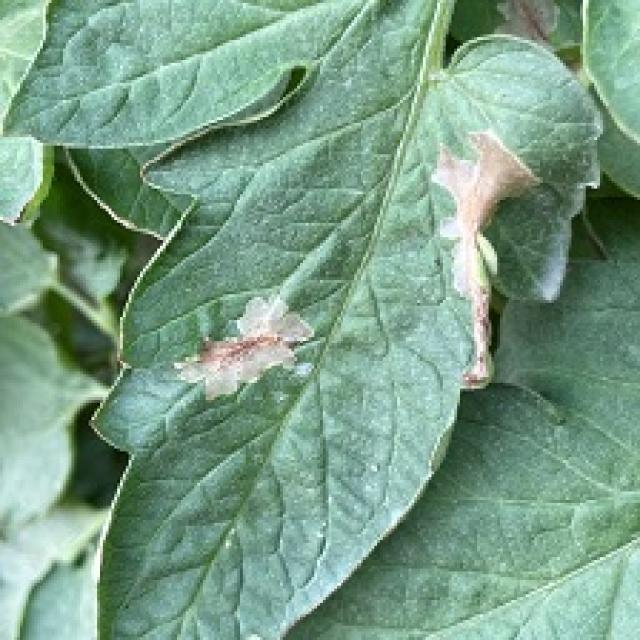Tuta absoluta: (436, 129, 544, 387), (169, 281, 320, 425)
